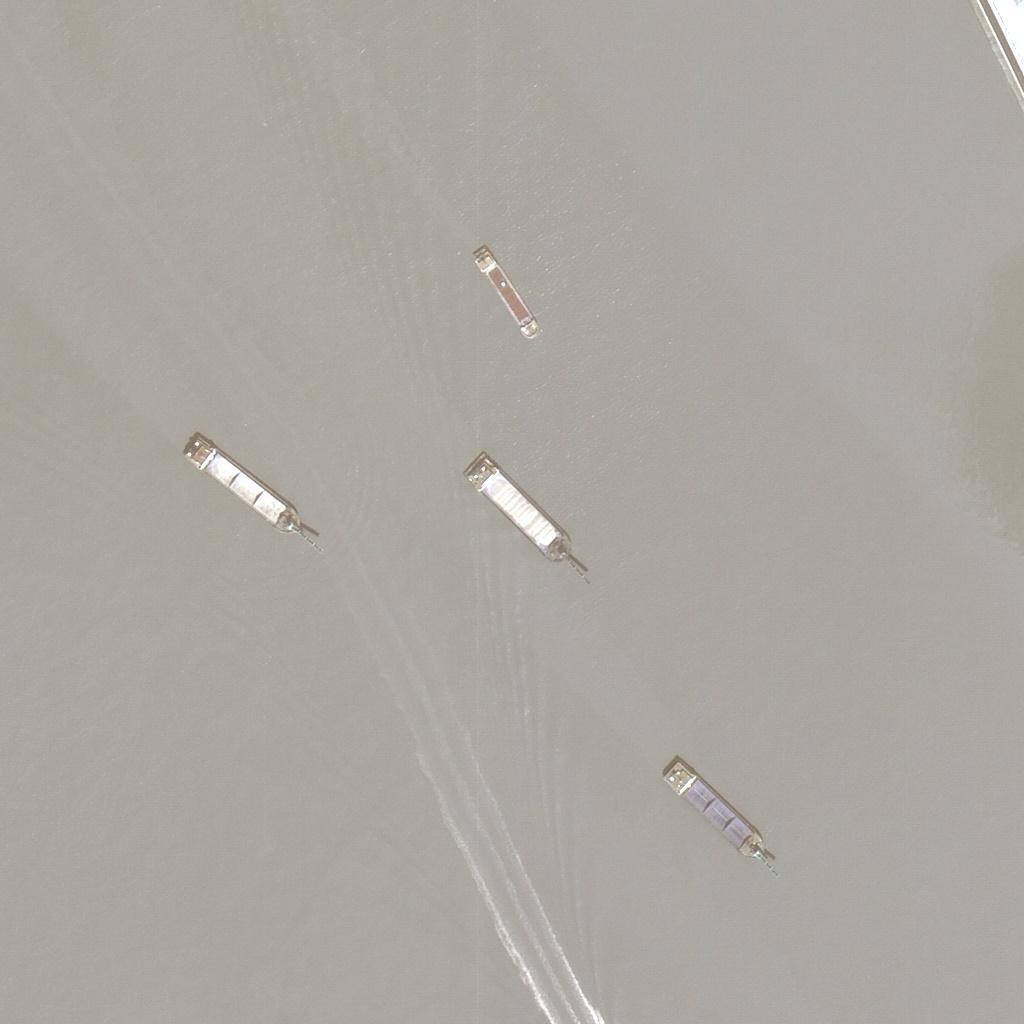ship: (460, 448, 598, 588), (183, 430, 324, 550), (663, 748, 786, 878)
